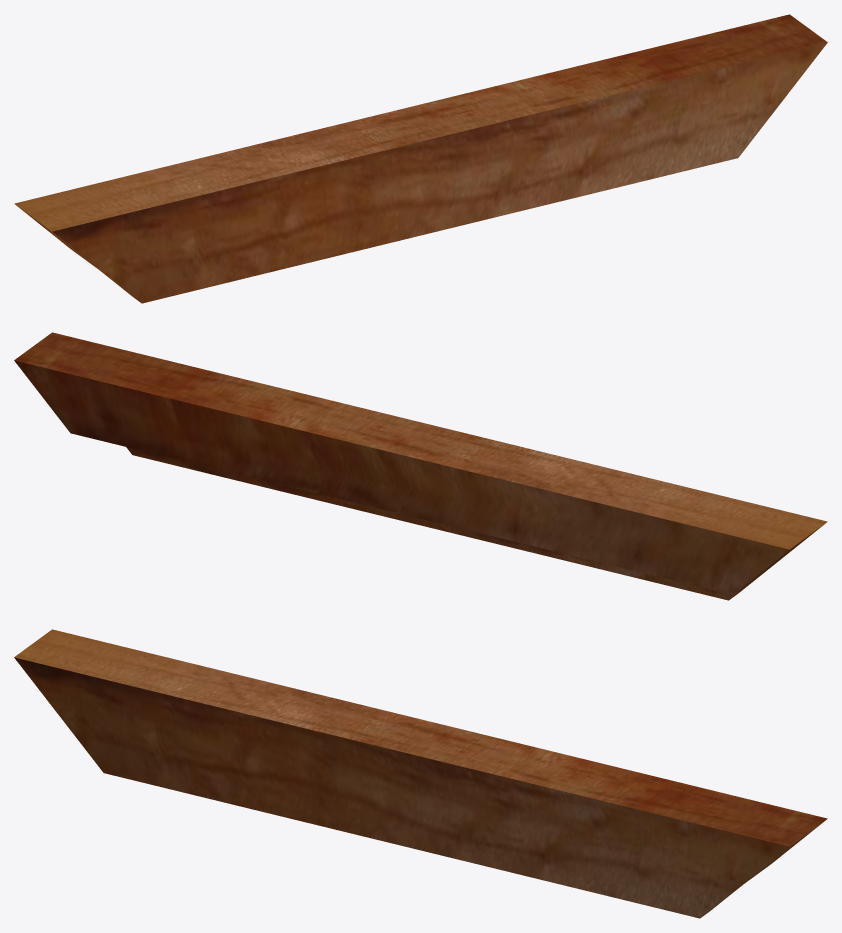
The model's file is BaguetteBois3.gltf.
The picture shows the model from 3 angles, top to bottom: view 1: azimuth 30°, elevation 25°; view 2: azimuth 150°, elevation 25°; view 3: azimuth 330°, elevation 25°; orthographic projection.
Visible parts, largest first — view 1: Baguette; view 2: Baguette; view 3: Baguette.
Boxes of the visible parts, x1,y1,x2,y2 form: Baguette: (14, 14, 827, 303); Baguette: (14, 332, 827, 600); Baguette: (14, 629, 827, 918).
Size of the model in its own units: 23.41 by 2.71 by 2.
Materials: 1 (1 with a texture image).
